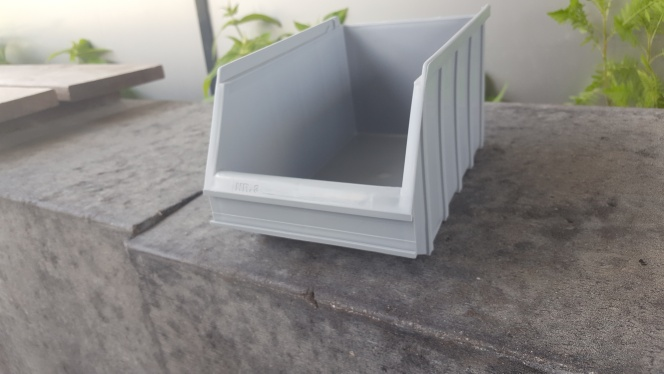tray_front: (202, 63, 426, 260)
